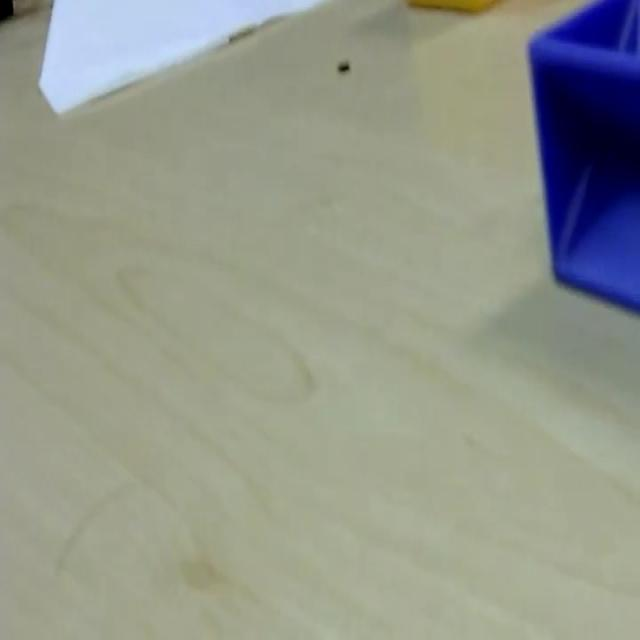blue_block: (525, 0, 639, 312)
